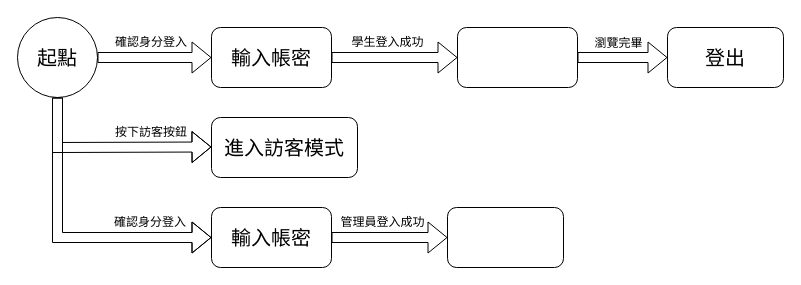
Image size: 801x285. Some labels were removed from this diagram. Each missing label, with the centre of its shape:
"登入" belongs at pixel 517 57.
"進入後台" belongs at pixel 505 237.
